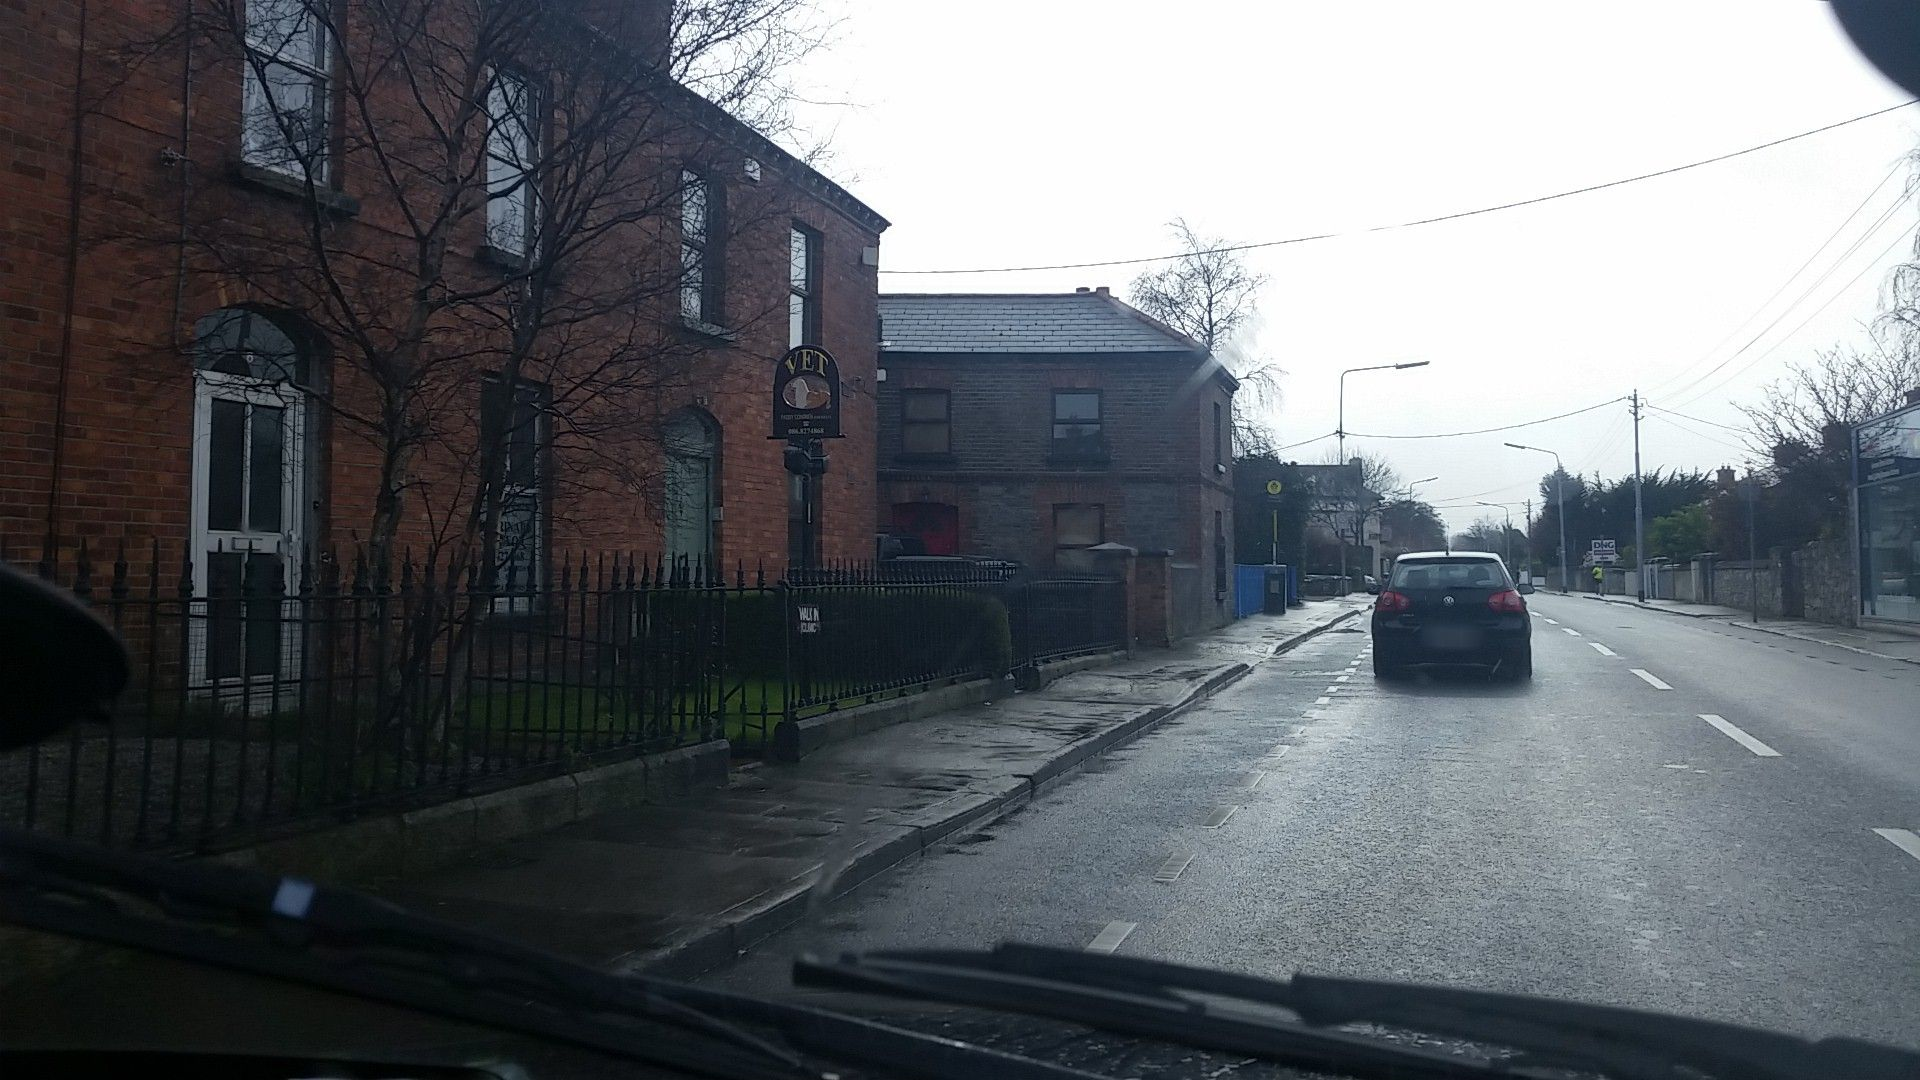property sign: (1577, 526, 1623, 575)
